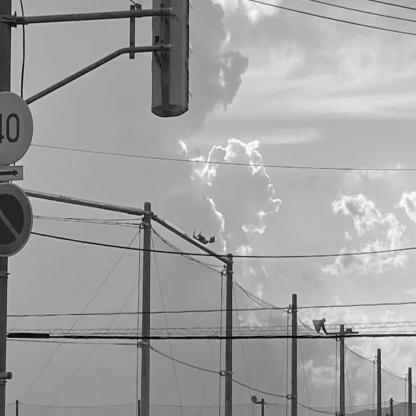V22: (193, 229, 216, 246)
